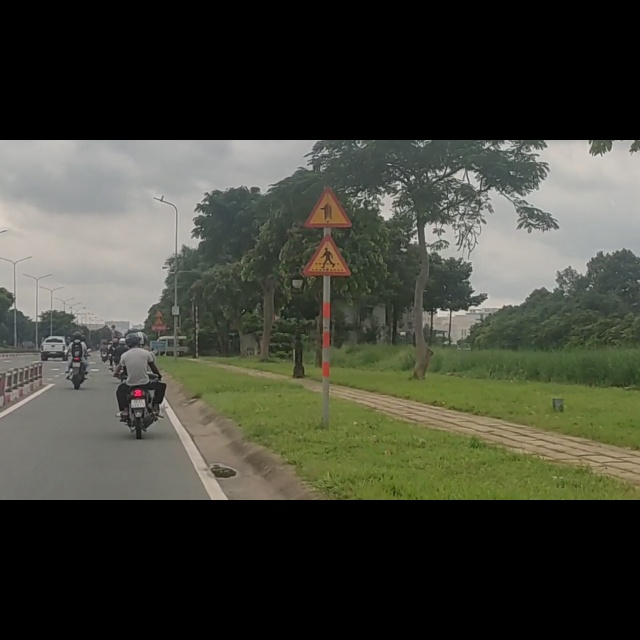bien_nguy_hiem: (303, 166, 352, 241), (303, 82, 353, 154)
